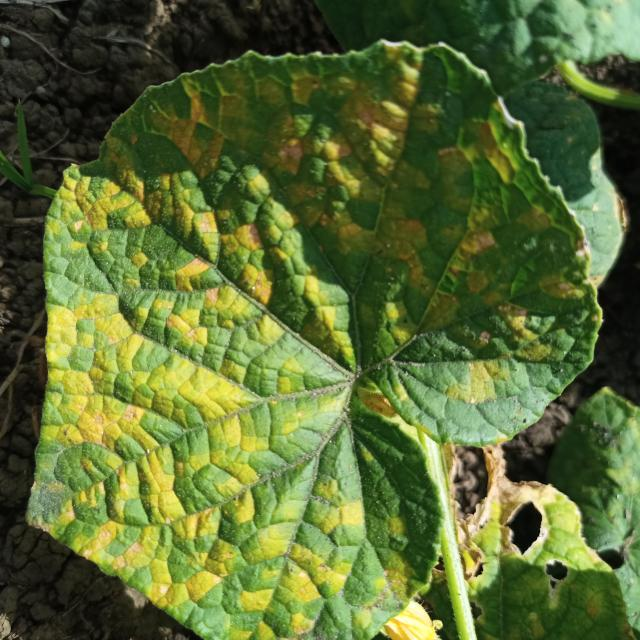disease_cucumber: (43, 52, 600, 640)
